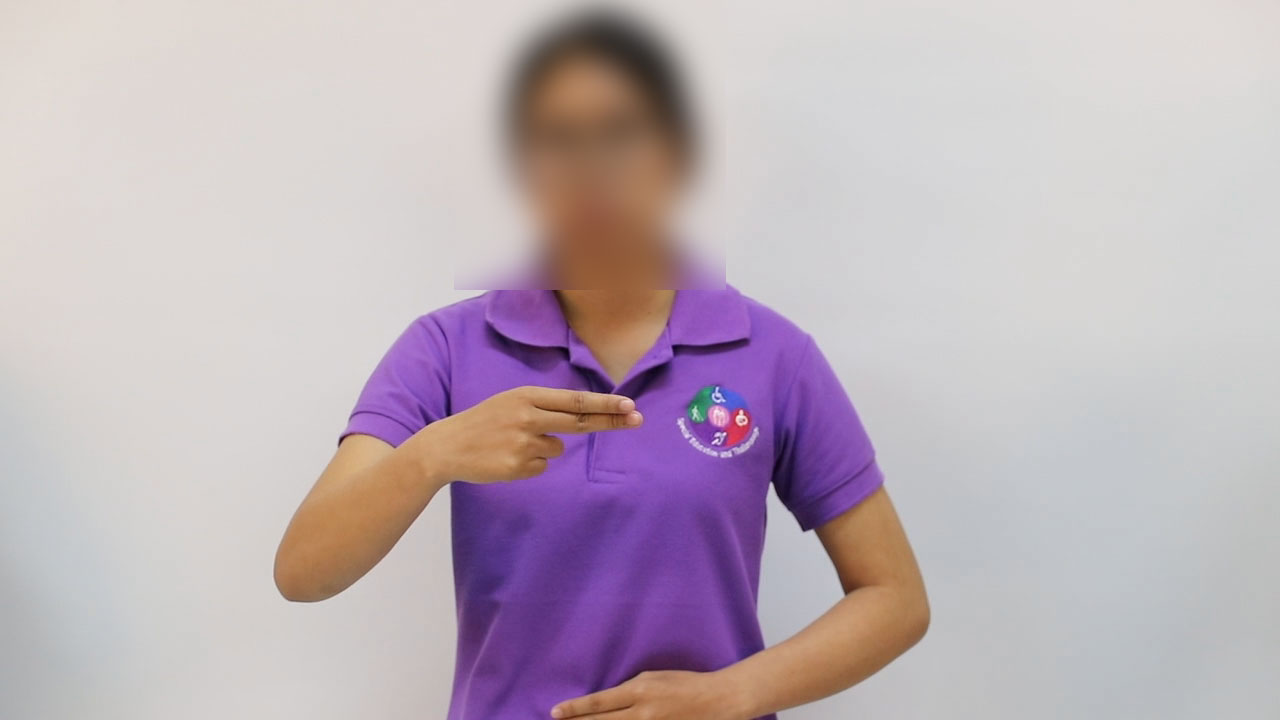hor: (402, 363, 664, 500)
